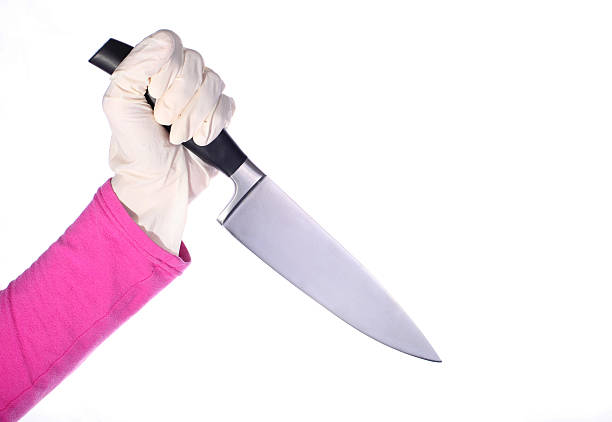knife: (86, 35, 445, 364)
